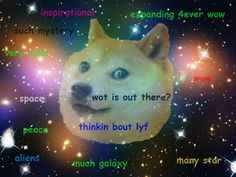doge: (59, 21, 174, 143)
